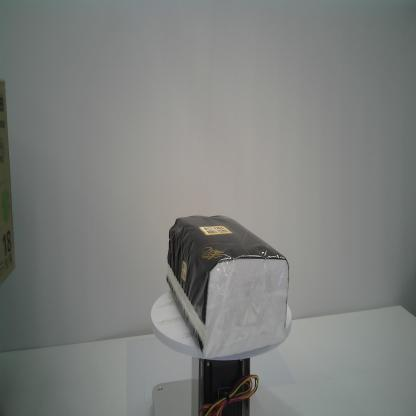Tissue: (165, 213, 290, 359)
